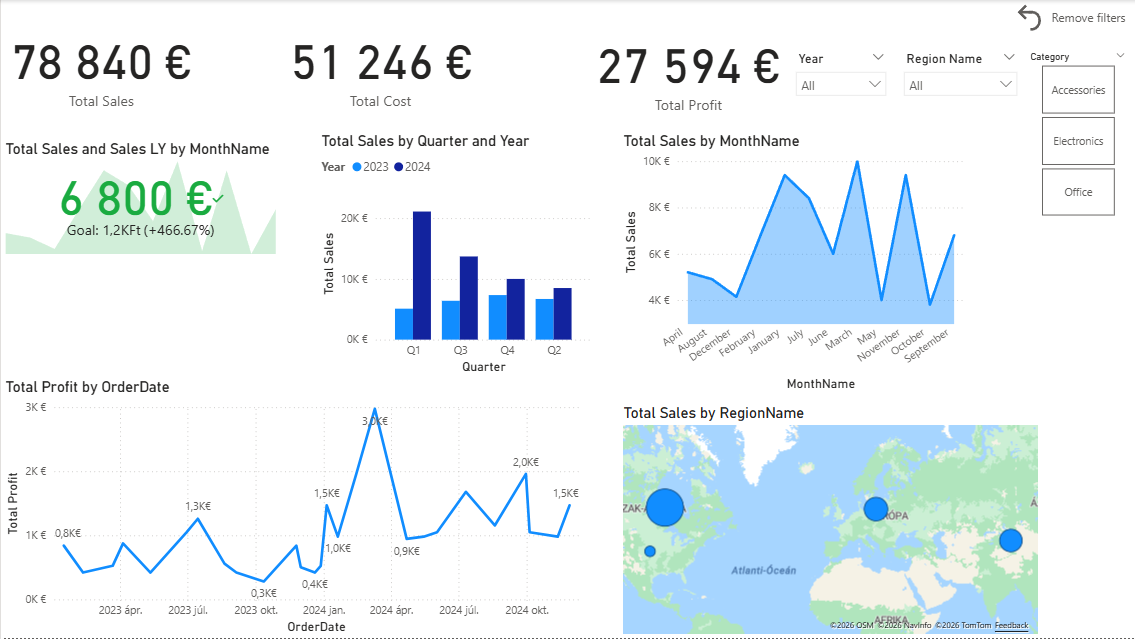

Layout of this report page (visuals, bound fields, positions):
{"tool":"powerbi","page":{"name":"Dashboard","canvas":[1280,720],"ordinal":0},"visuals":[{"type":"card","fields":{"Values":["Fact_Sales.Total Sales"]},"box":[0,0,226.2,148.8],"z":0},{"type":"card","fields":{"Values":["Fact_Sales.Total Profit"]},"box":[655.6,0,240,157.8],"z":1000},{"type":"card","fields":{"Values":["Fact_Sales.Total Cost"]},"box":[315.6,0,224.4,148.9],"z":2000},{"type":"lineChart","fields":{"Category":["Fact_Sales.OrderDate.Variation.Date Hierarchy.Year"],"Y":["Fact_Sales.Total Profit"]},"box":[0,426.2,671.2,293.8],"z":3000},{"type":"kpi","fields":{"Indicator":["Fact_Sales.Total Sales"],"TrendLine":["Dim_Calendar.MonthName"],"Goal":["Fact_Sales.Sales LY"]},"box":[0,157.5,315,133.8],"z":4000},{"type":"areaChart","fields":{"Category":["Dim_Calendar.MonthName"],"Y":["Fact_Sales.Total Sales"]},"box":[697.4,148.8,393.9,297.6],"z":5000},{"type":"clusteredColumnChart","fields":{"Category":["Dim_Calendar.Quarter"],"Y":["Fact_Sales.Total Sales"],"Series":["Dim_Calendar.Year"]},"box":[356.2,148.8,315,277.5],"z":6000},{"type":"azureMap","fields":{"Category":["Dim_Regions.RegionName"],"Size":["Fact_Sales.Total Sales"]},"box":[697.4,455.2,476.6,264.6],"z":6001},{"type":"slicer","fields":{"Values":["Dim_Calendar.Year"]},"box":[886.4,53,121.8,95.9],"z":6002},{"type":"slicer","fields":{"Values":["Dim_Regions.RegionName"]},"box":[1008.2,53,147.7,68.8],"z":6003},{"type":"slicer","fields":{"Values":["Dim_Products.Category"]},"box":[1148.1,53,131.9,197.4],"z":6004},{"type":"actionButton","box":[1140.2,0,131.9,39.5],"z":6005}]}

Visuals, with their boxes in screenshot pixels (x1, y1, x2, y2), scaled from the page's 1280x720 canvas onto the 1135x639 screenshot:
card - Fact_Sales.Total Sales: <bbox>0, 0, 201, 132</bbox>
card - Fact_Sales.Total Profit: <bbox>581, 0, 794, 140</bbox>
card - Fact_Sales.Total Cost: <bbox>280, 0, 479, 132</bbox>
lineChart - Fact_Sales.OrderDate.Variation.Date Hierarchy.Year x Fact_Sales.Total Profit: <bbox>0, 378, 595, 638</bbox>
kpi - Fact_Sales.Total Sales x Dim_Calendar.MonthName: <bbox>0, 140, 279, 259</bbox>
areaChart - Dim_Calendar.MonthName x Fact_Sales.Total Sales: <bbox>618, 132, 968, 396</bbox>
clusteredColumnChart - Dim_Calendar.Quarter x Fact_Sales.Total Sales: <bbox>316, 132, 595, 378</bbox>
azureMap - Dim_Regions.RegionName x Fact_Sales.Total Sales: <bbox>618, 404, 1041, 638</bbox>
slicer - Dim_Calendar.Year: <bbox>786, 47, 894, 132</bbox>
slicer - Dim_Regions.RegionName: <bbox>894, 47, 1025, 108</bbox>
slicer - Dim_Products.Category: <bbox>1018, 47, 1134, 222</bbox>
actionButton: <bbox>1011, 0, 1128, 35</bbox>
